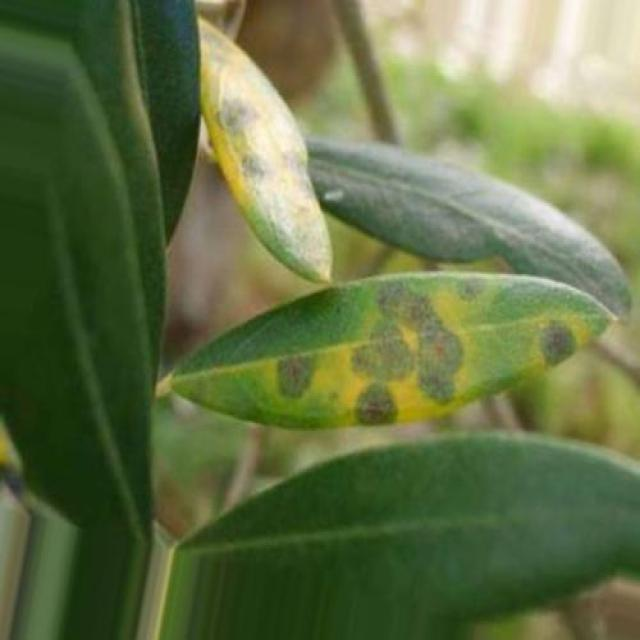OlivePeacockSpot: (165, 272, 610, 423), (198, 16, 330, 280)
